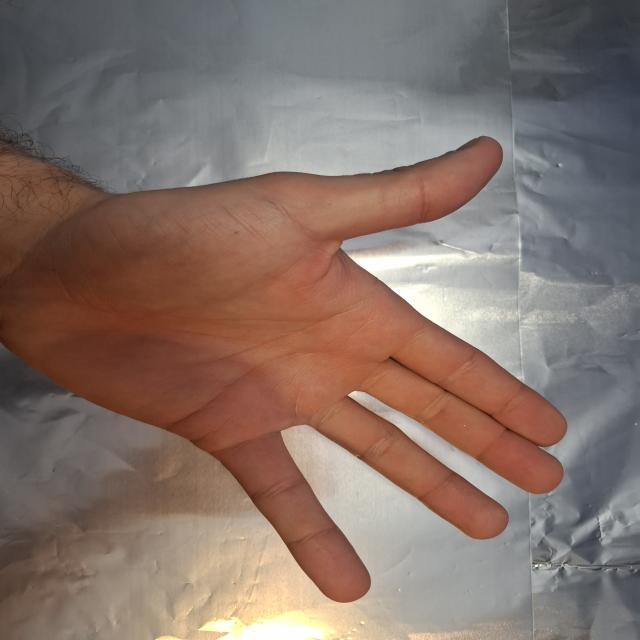glove_off: (5, 124, 570, 605)
